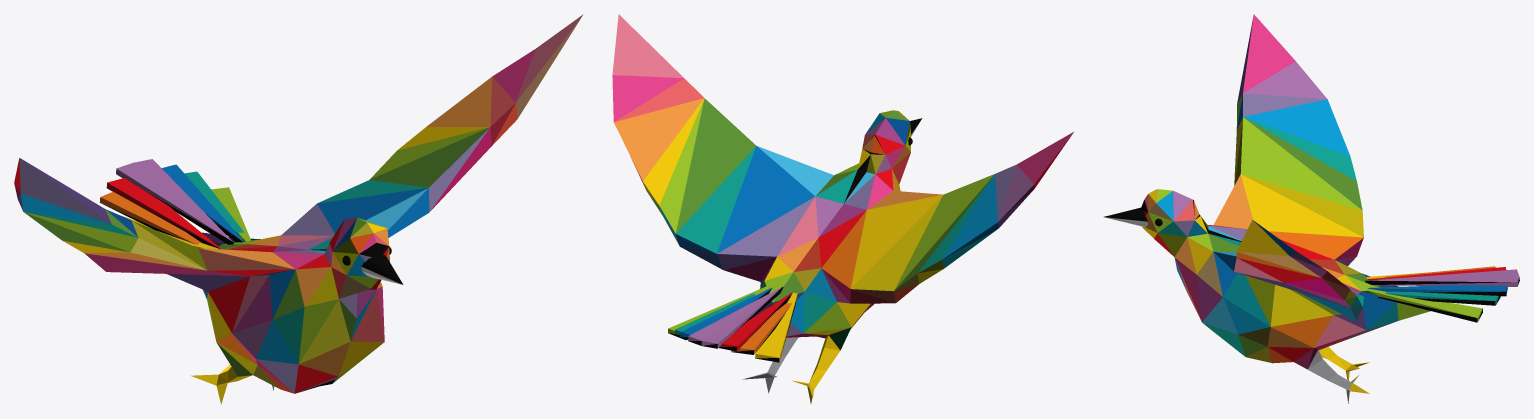
Rendered from PALOMA FLY.fbx.
3 views of the same model, side by side, from view 1: azimuth 30°, elevation 25°; view 2: azimuth 150°, elevation 25°; view 3: azimuth 270°, elevation 25° (orthographic). The views are drawn at different scales.
Visible parts, largest first — view 1: paloma__Copy_; view 2: paloma__Copy_; view 3: paloma__Copy_.
Part boxes in pixels (bbox=[...]): paloma__Copy_: bbox=[14, 14, 583, 404]; paloma__Copy_: bbox=[612, 14, 1073, 403]; paloma__Copy_: bbox=[1104, 14, 1519, 403].
Bounding box in the file's own units: 253 × 156 × 211.
